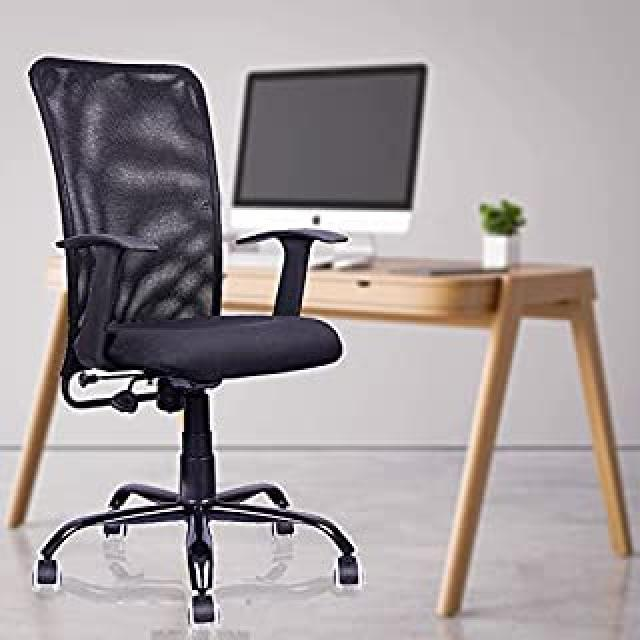chair: (11, 4, 387, 636)
